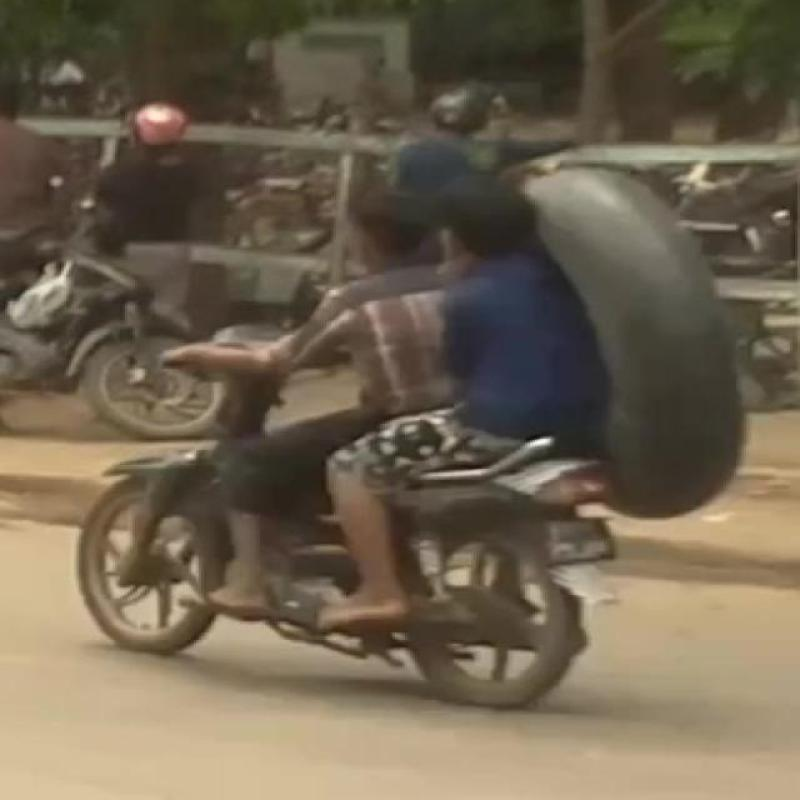nohelmet: (328, 156, 446, 272), (457, 162, 550, 272)
